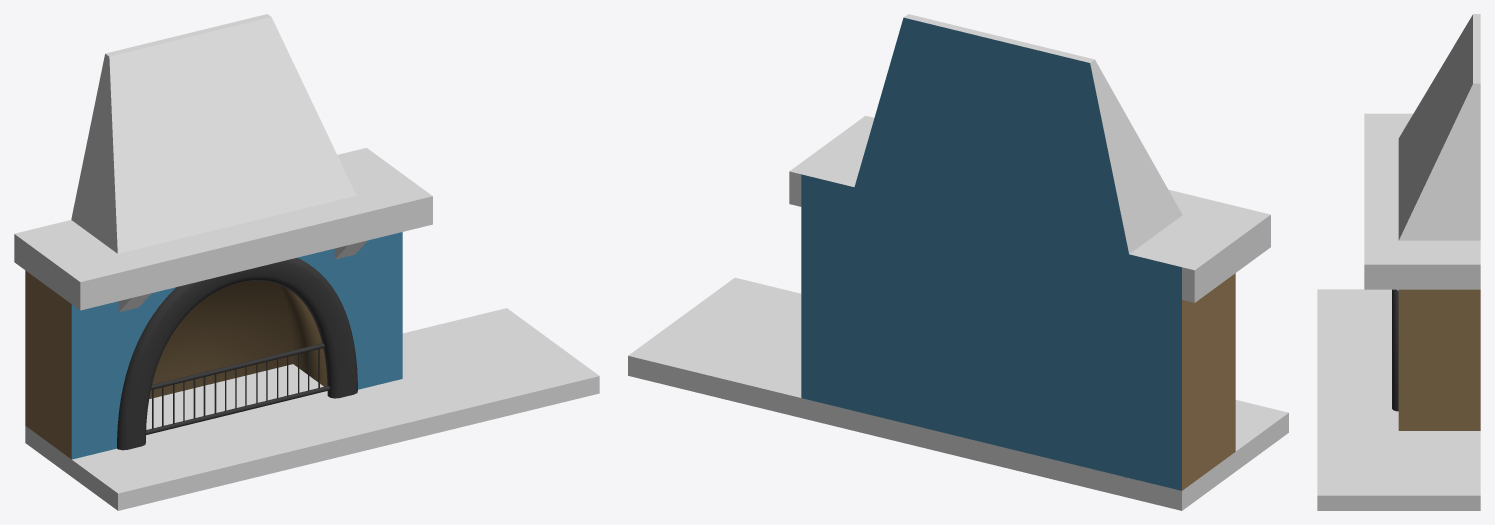
File: Fireplace.fbx
3 renders of one model, left to right at view 1: azimuth 30°, elevation 25°; view 2: azimuth 150°, elevation 25°; view 3: azimuth 270°, elevation 25°, orthographic. The views are drawn at different scales.
Visible parts, largest first — view 1: Fireplace; view 2: Fireplace; view 3: Fireplace.
Part boxes in pixels (x1,y1,x2,y2): Fireplace: (14,14,599,510); Fireplace: (628,14,1288,510); Fireplace: (1317,14,1480,510).
Size of the model in its own units: 703 by 504 by 229.
